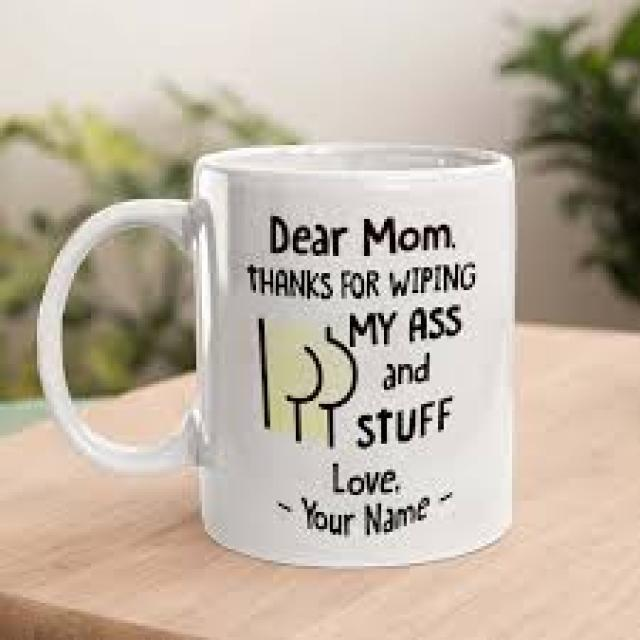taza: (31, 121, 536, 574)
